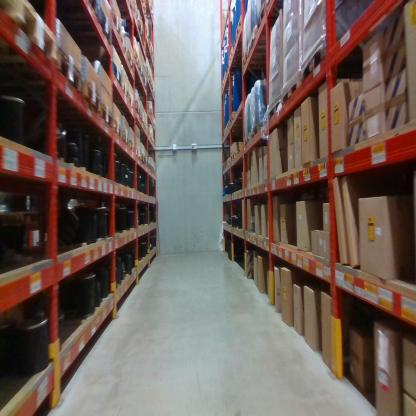pallet: (1, 0, 62, 65), (303, 38, 359, 92), (63, 1, 115, 44), (55, 42, 84, 92), (249, 26, 280, 63), (241, 48, 285, 72), (255, 2, 289, 30), (280, 73, 302, 111), (80, 81, 102, 114), (93, 63, 122, 85), (97, 102, 115, 129), (118, 2, 141, 23), (266, 96, 283, 121), (236, 15, 250, 40), (117, 78, 131, 103), (115, 96, 135, 112), (129, 24, 144, 44), (223, 126, 250, 137), (252, 122, 266, 143), (232, 35, 249, 52), (226, 120, 252, 131), (111, 12, 122, 35), (229, 112, 247, 126), (228, 51, 244, 65), (111, 121, 124, 136), (115, 35, 127, 51), (125, 137, 137, 153), (137, 1, 149, 17), (126, 54, 135, 75), (132, 53, 142, 70), (245, 130, 252, 150), (133, 104, 141, 121), (122, 129, 128, 147), (231, 153, 239, 162), (135, 151, 142, 161), (225, 157, 229, 169), (228, 155, 231, 165)
